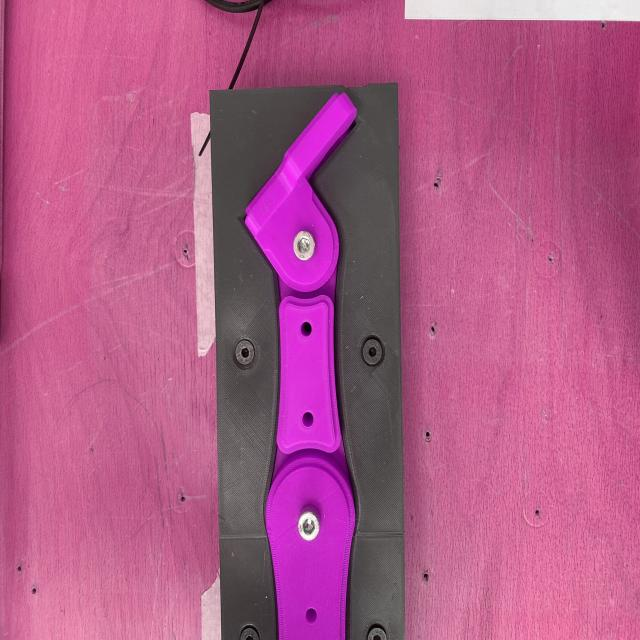HexScrew: (293, 231, 316, 261), (299, 513, 320, 542), (363, 338, 383, 366), (236, 340, 254, 365), (240, 625, 260, 640), (368, 627, 387, 640)
